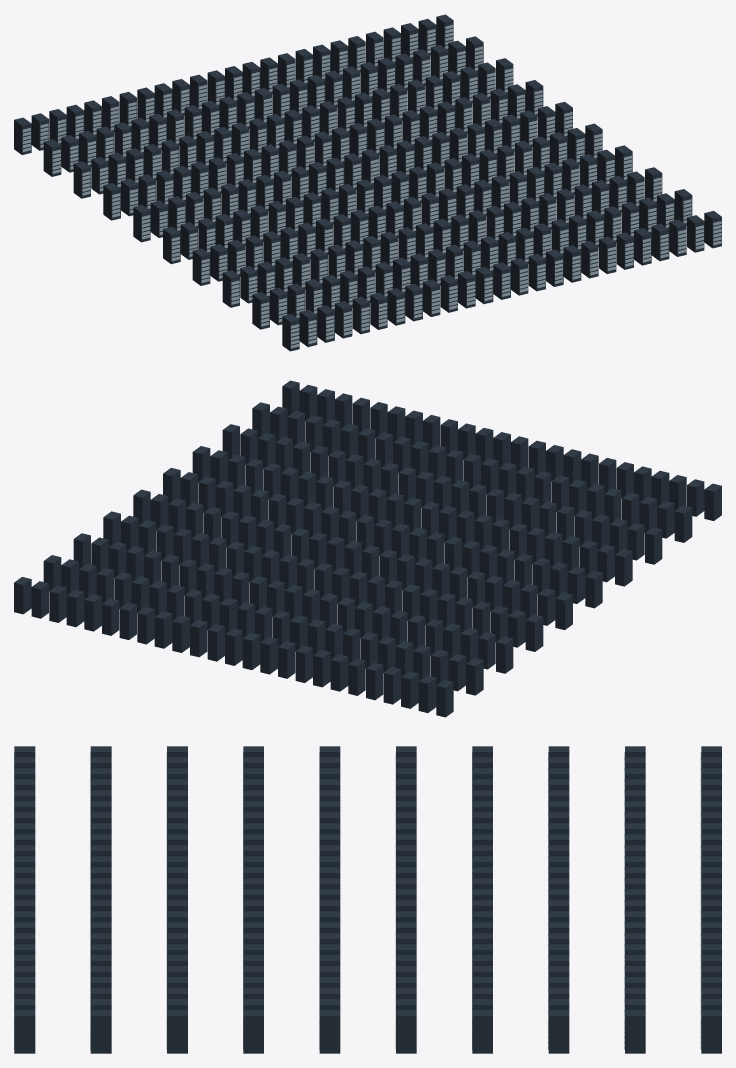
File: dc03-racks.glb
The picture shows the model from 3 angles, top to bottom: view 1: azimuth 30°, elevation 25°; view 2: azimuth 150°, elevation 25°; view 3: azimuth 270°, elevation 25°; orthographic projection. The views are drawn at different scales.
Parts seen in each view (by area): view 1: dc03-racks_rack, dc03-racks_metal; view 2: dc03-racks_rack; view 3: dc03-racks_rack, dc03-racks_metal.
Boxes of the visible parts, x1,y1,x2,y2 form: dc03-racks_rack: [14, 14, 721, 351]; dc03-racks_metal: [22, 25, 721, 348]; dc03-racks_rack: [14, 380, 721, 717]; dc03-racks_rack: [14, 746, 721, 1053]; dc03-racks_metal: [14, 752, 701, 1049].
Bounding box in the file's own units: 36.8 × 2.4 × 40.82.
